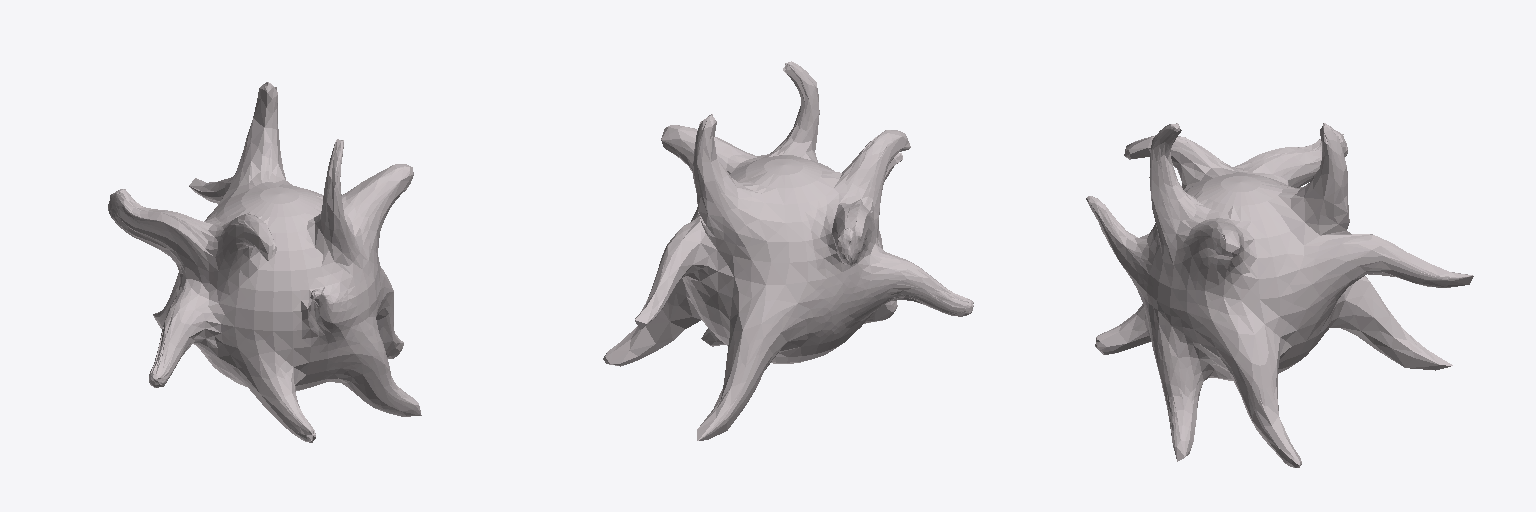
The model's file is PLATELET.obj.
The picture shows the model from 3 angles: view 1: azimuth 30°, elevation 25°; view 2: azimuth 150°, elevation 25°; view 3: azimuth 270°, elevation 25°; orthographic projection.
Parts seen in each view (by area): view 1: Sphere; view 2: Sphere; view 3: Sphere.
Boxes of the visible parts, x1=… form: Sphere: x1=108, y1=82, x2=421, y2=442; Sphere: x1=603, y1=61, x2=973, y2=440; Sphere: x1=1086, y1=123, x2=1473, y2=467.
Size of the model in its own units: 5.67 by 5.24 by 6.13.